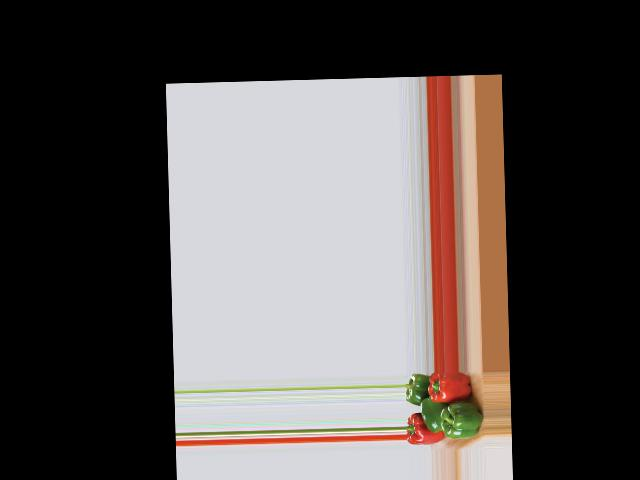bell_pepper: (428, 371, 475, 404)
